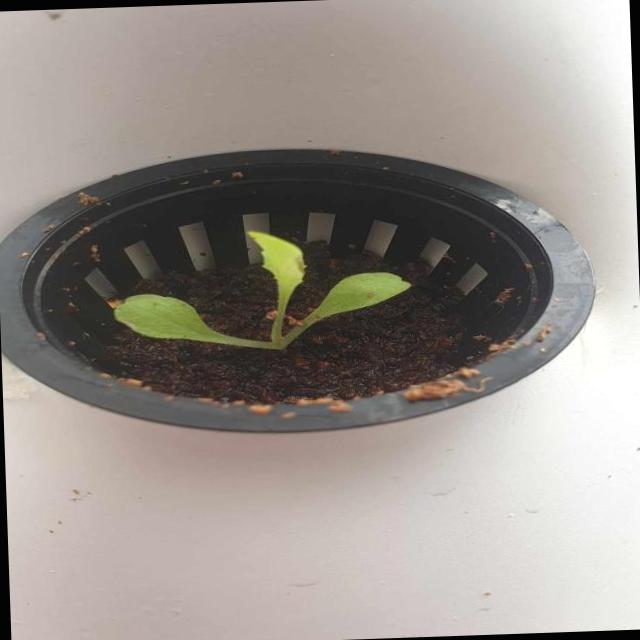Lettuce-Not-Ready-to-Harvest: (121, 231, 411, 350)
